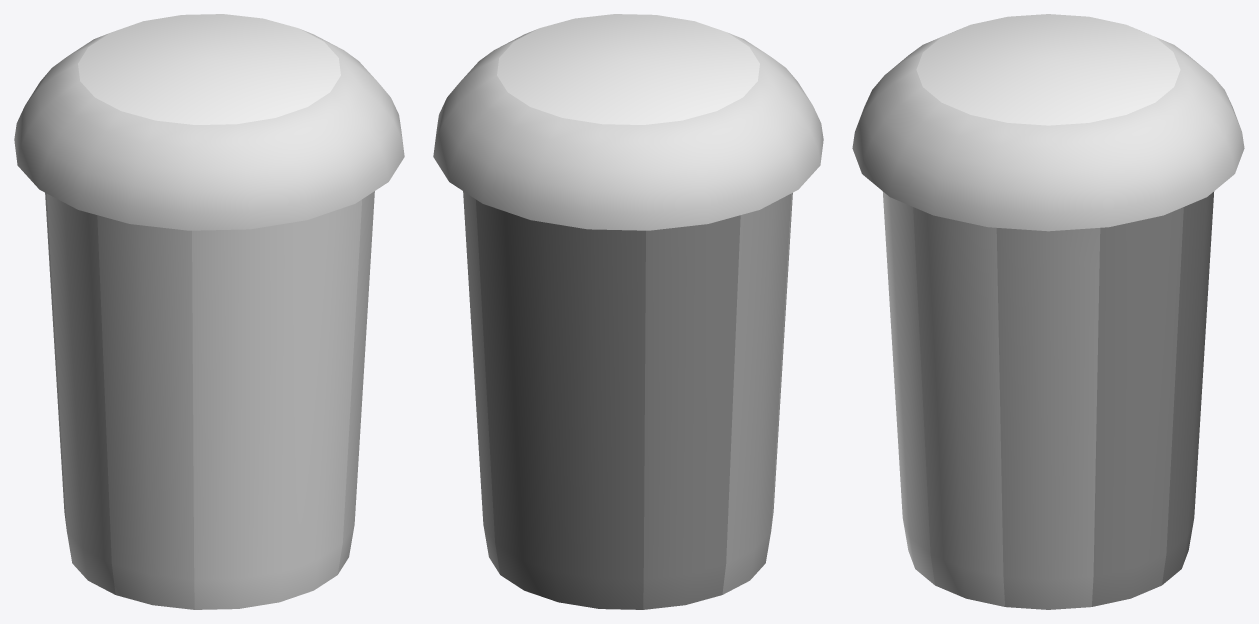
Rendered from portablecup.fbx.
The picture shows the model from 3 angles, left to right: view 1: azimuth 30°, elevation 25°; view 2: azimuth 150°, elevation 25°; view 3: azimuth 270°, elevation 25°; orthographic projection.
Visible parts, largest first — view 1: pCylinder1, pSphere1; view 2: pCylinder1, pSphere1; view 3: pCylinder1, pSphere1.
Boxes of the visible parts, <box> form: pCylinder1: <box>45,191,374,609</box>; pSphere1: <box>14,14,404,230</box>; pCylinder1: <box>463,191,792,609</box>; pSphere1: <box>433,14,823,230</box>; pCylinder1: <box>882,191,1214,609</box>; pSphere1: <box>852,14,1244,231</box>.
Size of the model in its own units: 3.98 by 5.58 by 3.98.
1 material, 1 textured.
